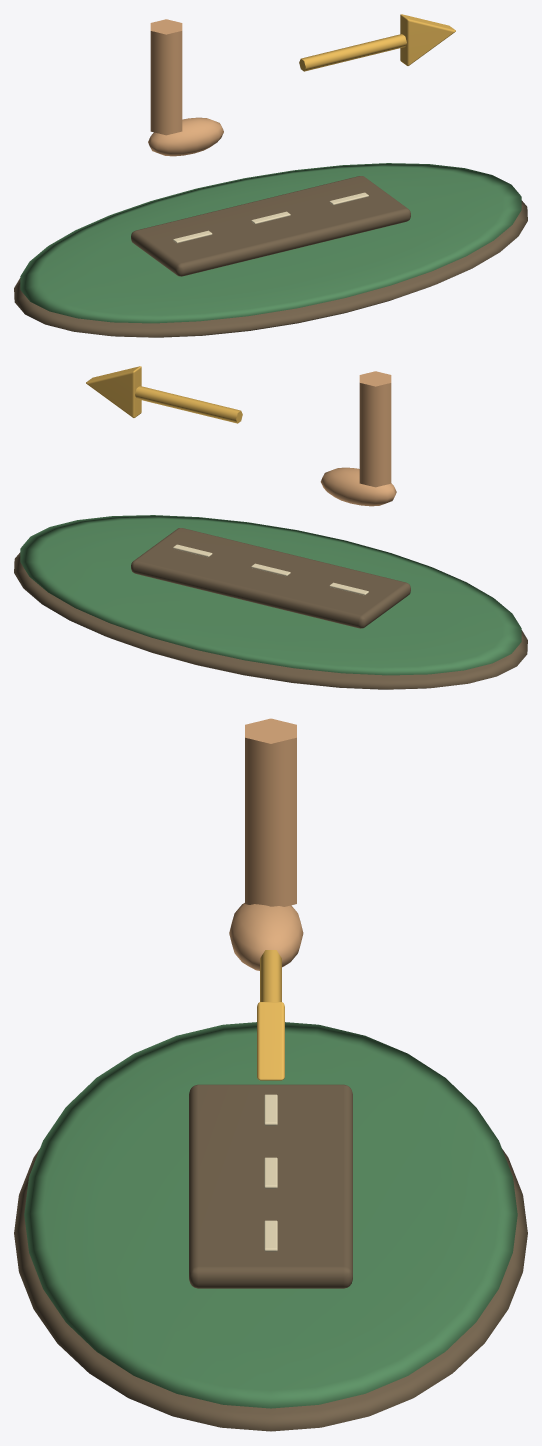
File: complete-first-feet-on-each-road.glb
3 views of the same model, one above another, from view 1: azimuth 30°, elevation 25°; view 2: azimuth 150°, elevation 25°; view 3: azimuth 270°, elevation 25° (orthographic). The views are drawn at different scales.
Parts seen in each view (by area): view 1: complete-first-feet-on-each-road_surface_01, complete-first-feet-on-each-road_surface_00, complete-first-feet-on-each-road_surface_02, complete-first-feet-on-each-road_surface_03, complete-first-feet-on-each-road_surface_04; view 2: complete-first-feet-on-each-road_surface_01, complete-first-feet-on-each-road_surface_00, complete-first-feet-on-each-road_surface_02, complete-first-feet-on-each-road_surface_03, complete-first-feet-on-each-road_surface_04; view 3: complete-first-feet-on-each-road_surface_01, complete-first-feet-on-each-road_surface_00, complete-first-feet-on-each-road_surface_02, complete-first-feet-on-each-road_surface_03, complete-first-feet-on-each-road_surface_04.
Part boxes in pixels (<box>): complete-first-feet-on-each-road_surface_01: <box>20,163,521,323</box>; complete-first-feet-on-each-road_surface_00: <box>14,176,527,337</box>; complete-first-feet-on-each-road_surface_02: <box>148,19,223,156</box>; complete-first-feet-on-each-road_surface_03: <box>299,14,455,71</box>; complete-first-feet-on-each-road_surface_04: <box>173,192,368,243</box>; complete-first-feet-on-each-road_surface_01: <box>20,515,521,675</box>; complete-first-feet-on-each-road_surface_00: <box>14,528,527,689</box>; complete-first-feet-on-each-road_surface_02: <box>320,371,396,506</box>; complete-first-feet-on-each-road_surface_03: <box>86,366,242,423</box>; complete-first-feet-on-each-road_surface_04: <box>173,544,368,595</box>; complete-first-feet-on-each-road_surface_01: <box>24,1022,517,1408</box>; complete-first-feet-on-each-road_surface_00: <box>14,1084,527,1431</box>; complete-first-feet-on-each-road_surface_02: <box>229,718,303,970</box>; complete-first-feet-on-each-road_surface_03: <box>257,950,284,1080</box>; complete-first-feet-on-each-road_surface_04: <box>264,1094,277,1251</box>.
Size of the model in its own units: 4.56 by 2.37 by 2.5.
